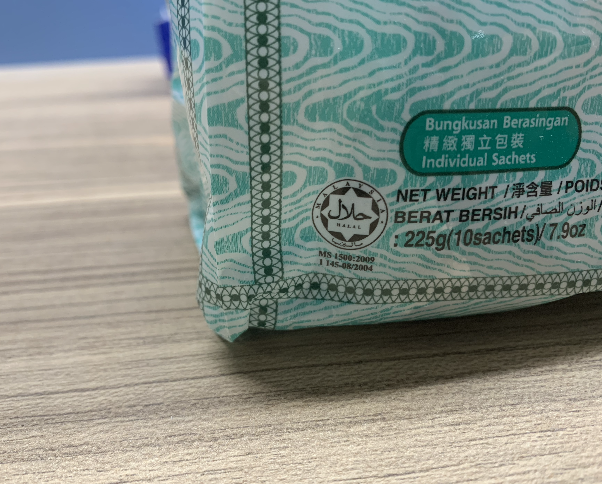halal: (322, 188, 376, 241)
